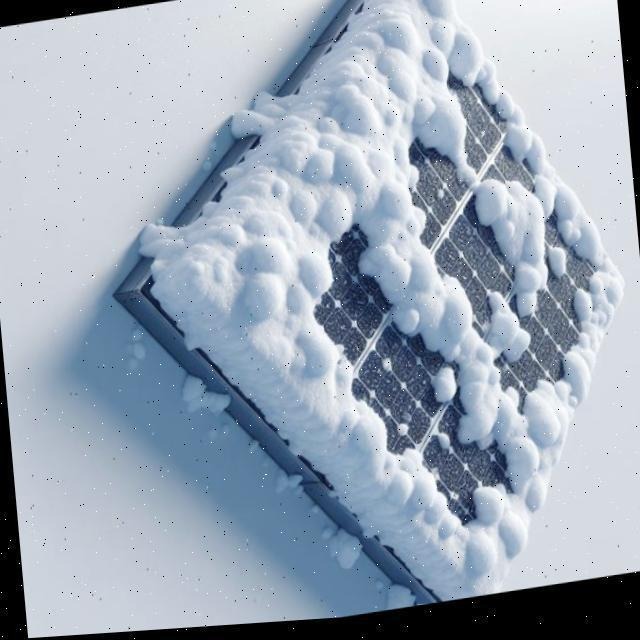Anomaly Solar Panel: (137, 0, 640, 602)
Snow: (132, 0, 640, 603), (544, 248, 574, 287)
